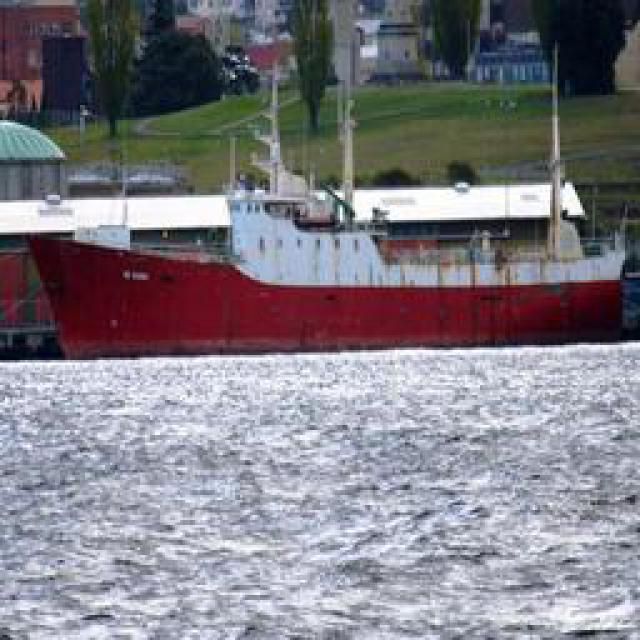Ship: (38, 182, 636, 360)
